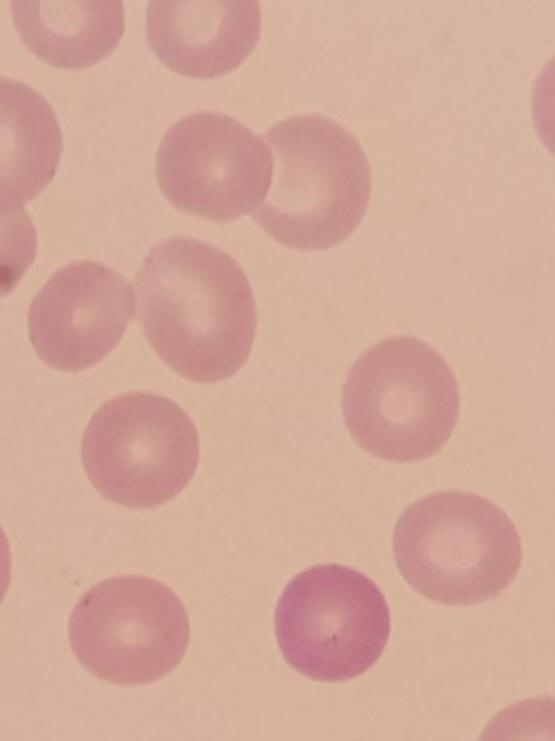Uninfected: (133, 235, 259, 382), (339, 335, 465, 464), (251, 114, 372, 247), (389, 489, 525, 607), (78, 390, 201, 510), (270, 561, 391, 682), (66, 573, 192, 687), (156, 109, 276, 221), (23, 258, 132, 372), (143, 0, 259, 77), (14, 0, 124, 69)
